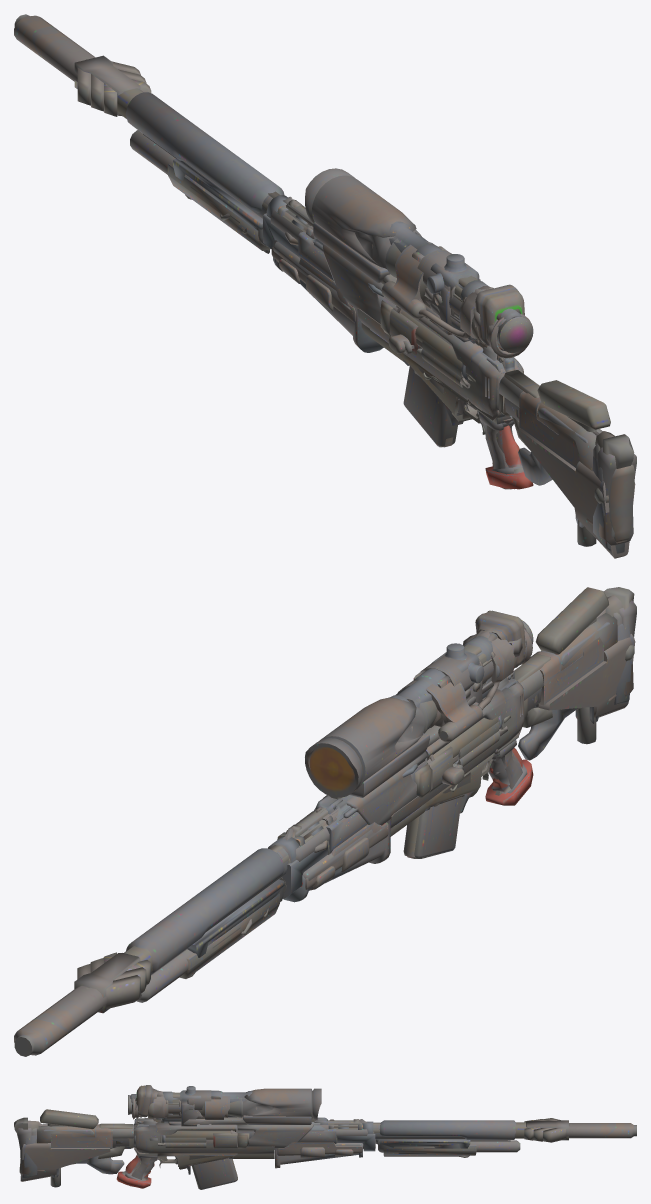
The model's file is gestalt.obj.
The picture shows the model from 3 angles, top to bottom: view 1: azimuth 30°, elevation 25°; view 2: azimuth 150°, elevation 25°; view 3: azimuth 270°, elevation 25°; orthographic projection. The views are drawn at different scales.
Visible parts, largest first — view 1: gestalt_weap_sniper_rifle_GestaltSkeletalMesh; view 2: gestalt_weap_sniper_rifle_GestaltSkeletalMesh; view 3: gestalt_weap_sniper_rifle_GestaltSkeletalMesh.
Part boxes in pixels (x1,y1,x2,y2): gestalt_weap_sniper_rifle_GestaltSkeletalMesh: (14,14,636,558); gestalt_weap_sniper_rifle_GestaltSkeletalMesh: (14,587,636,1056); gestalt_weap_sniper_rifle_GestaltSkeletalMesh: (14,1085,636,1189).
Size of the model in its own units: 11.53 by 32.59 by 183.
